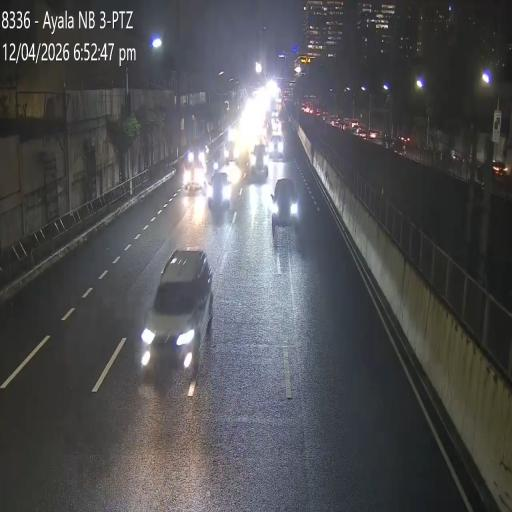Car: (139, 248, 212, 374), (270, 176, 298, 226), (206, 170, 232, 210), (183, 160, 206, 197), (250, 143, 269, 181), (269, 122, 285, 160), (223, 131, 239, 162)
